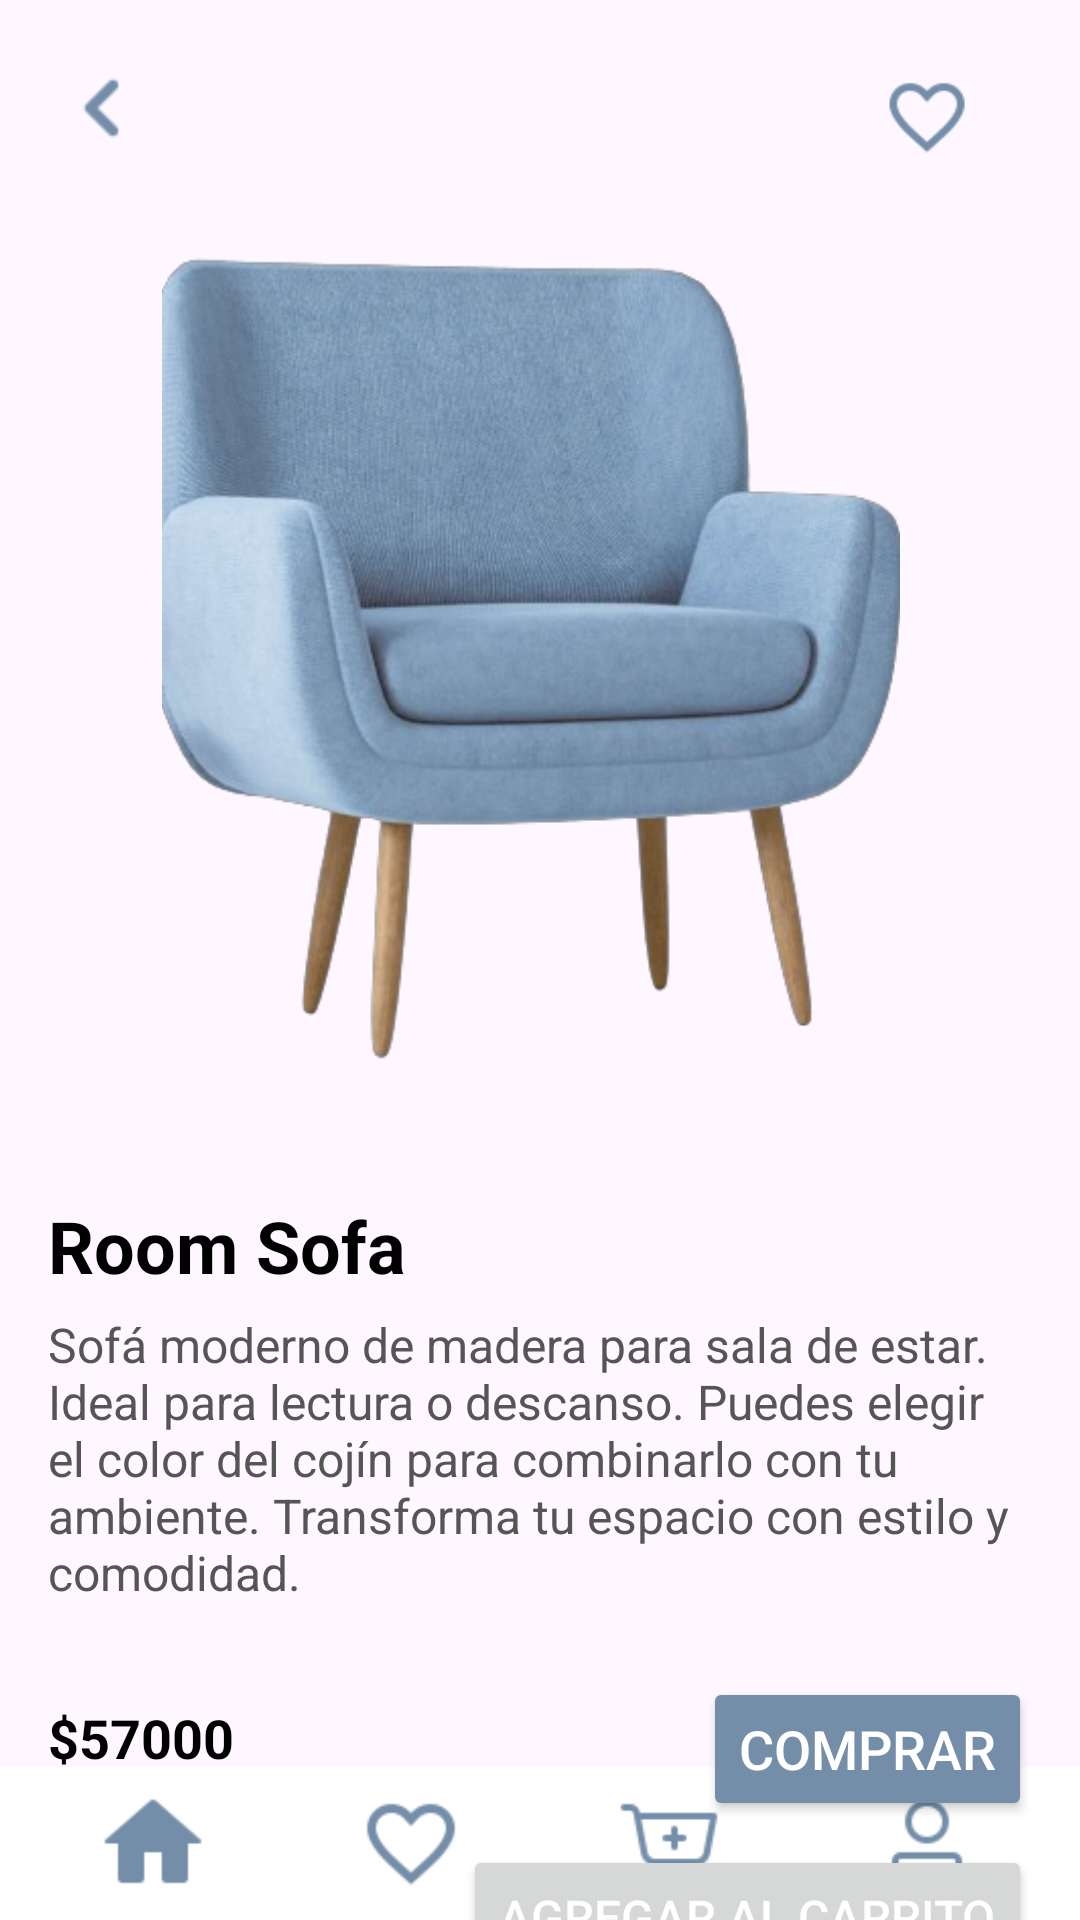

Point at icon controls on the screen. Image size 1080×1920, points as (x,y).
back: (101,108)
Inicio: (153,1841)
